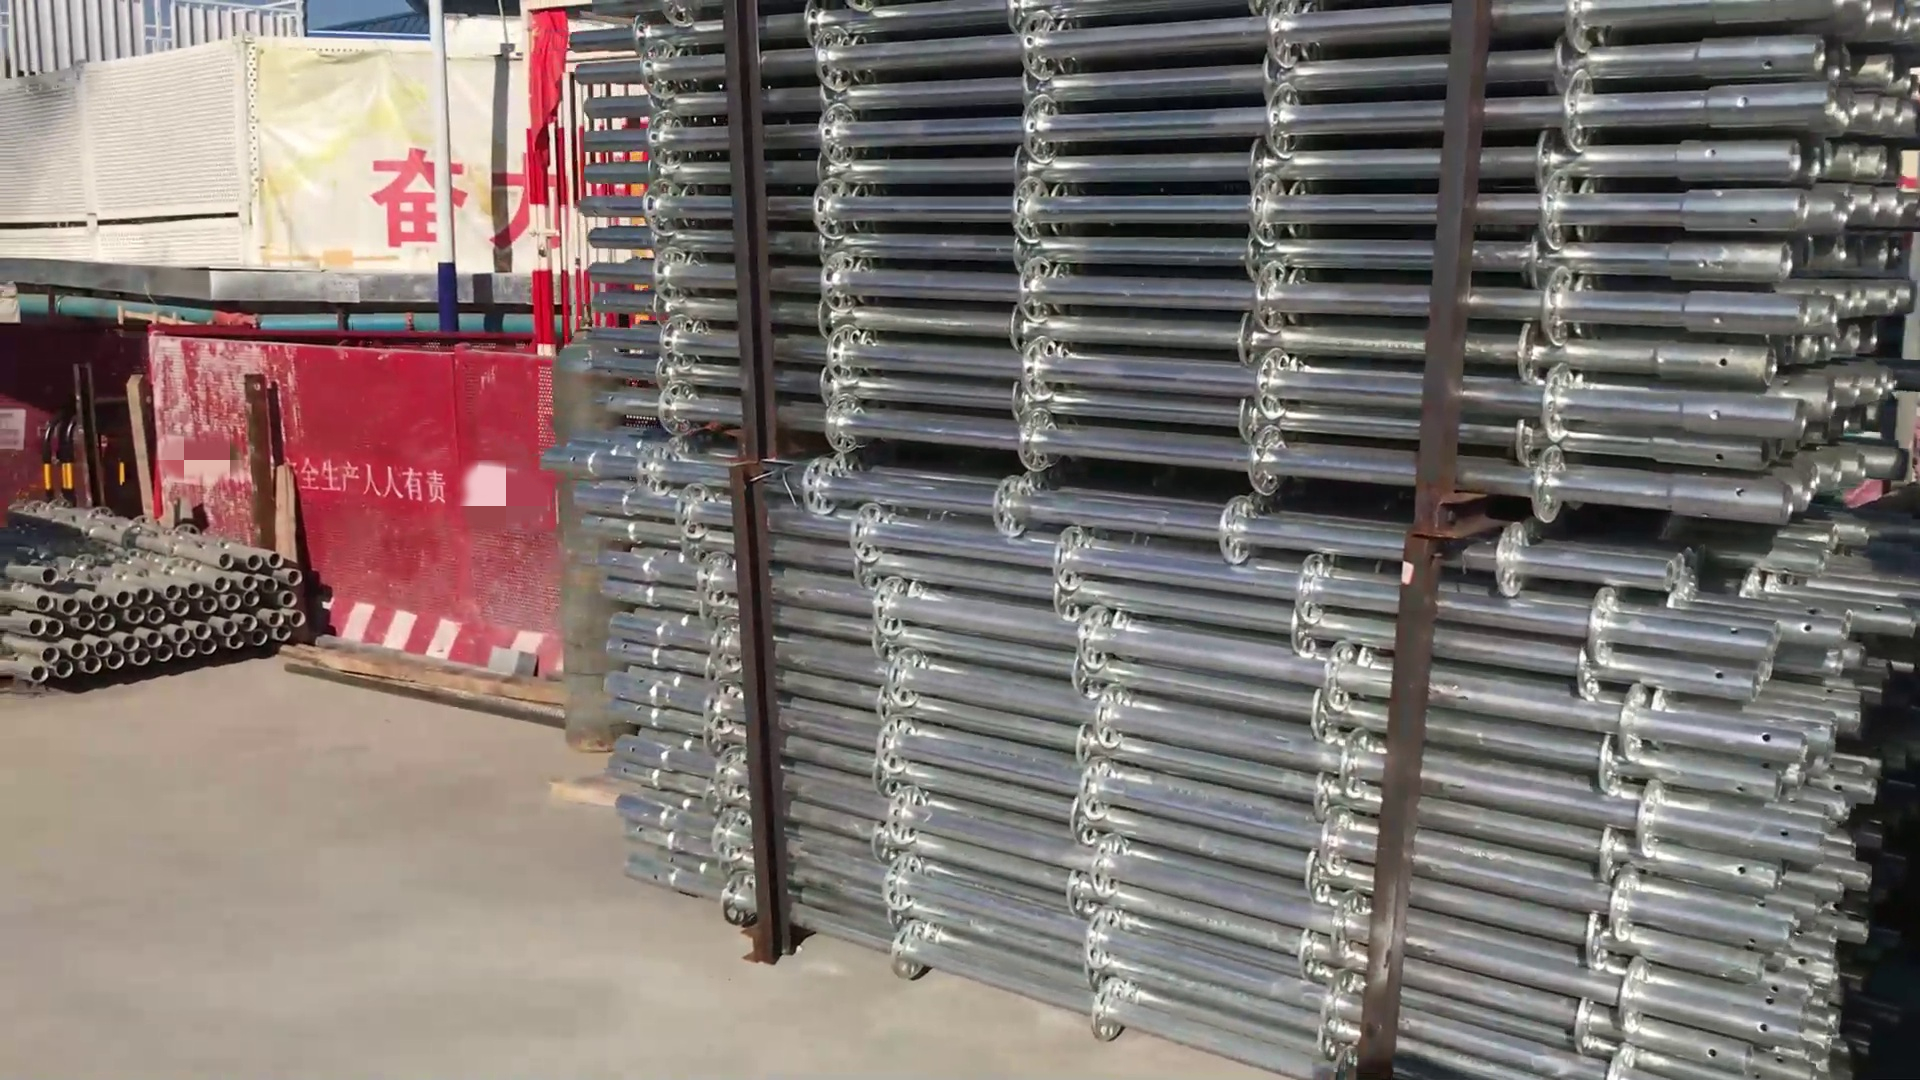fence: (136, 327, 574, 669), (25, 406, 127, 508)
scaffold: (563, 8, 1905, 1080), (1, 518, 305, 692)
